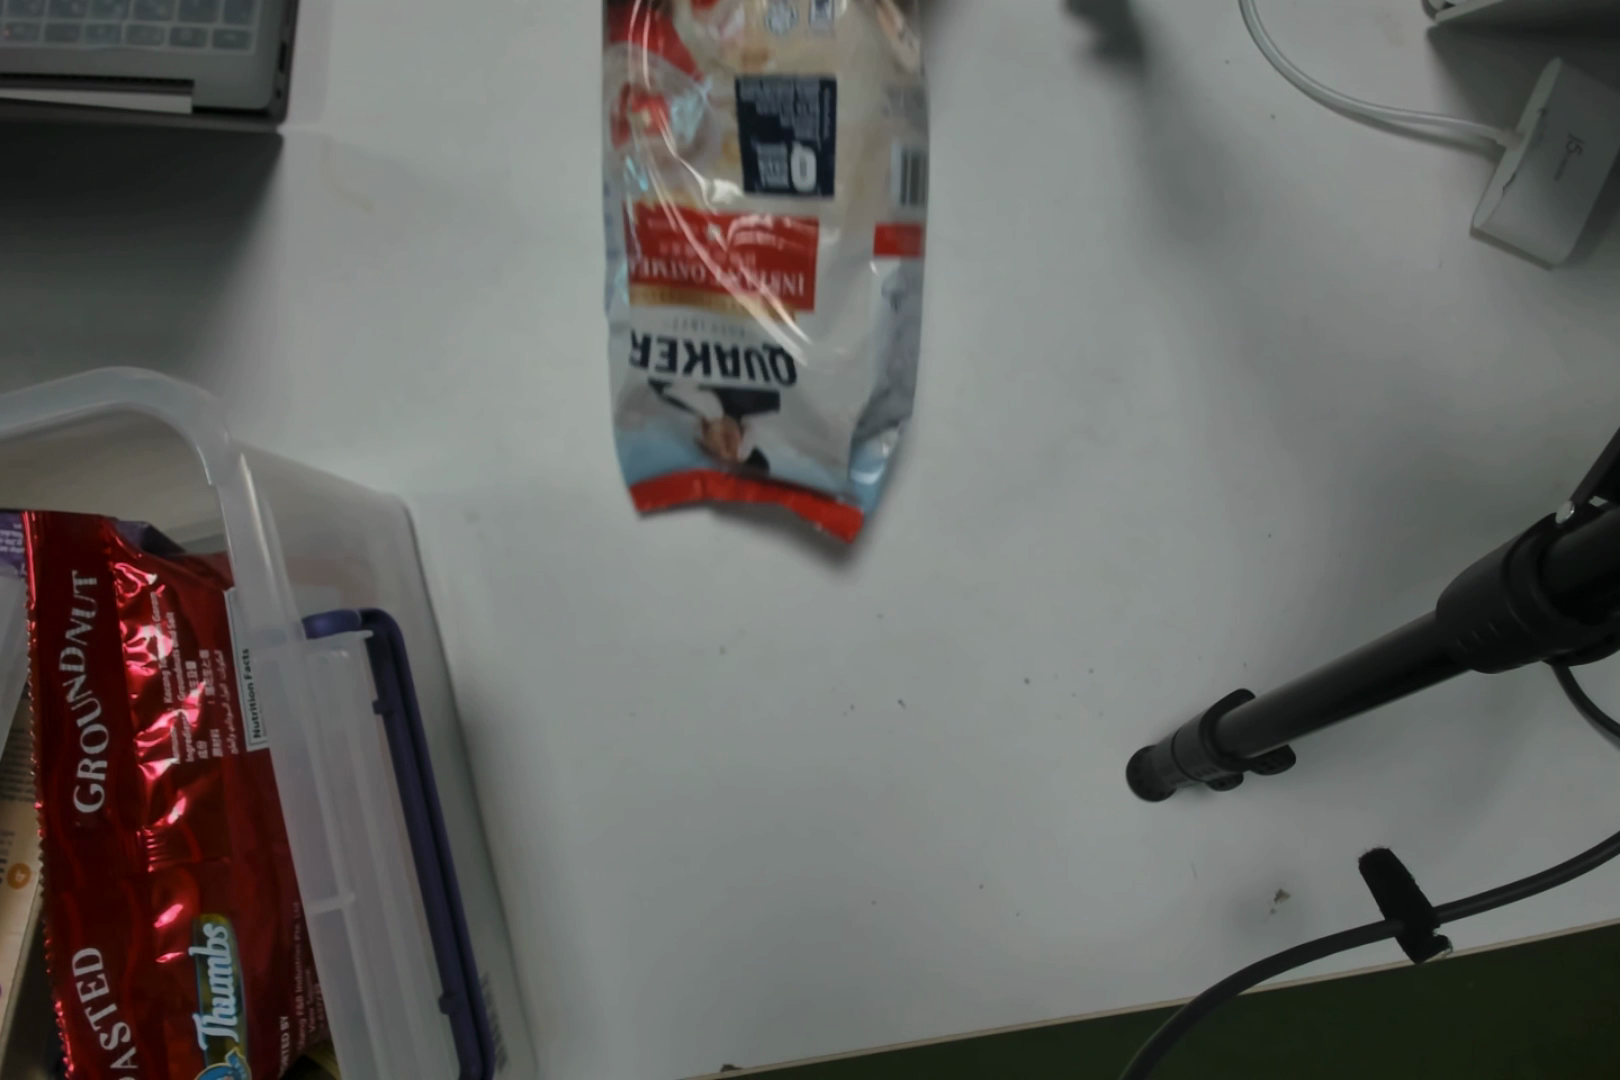RolledOatsInstantOatmeal_400-499g_Halal_Healthy: (614, 2, 912, 547)
